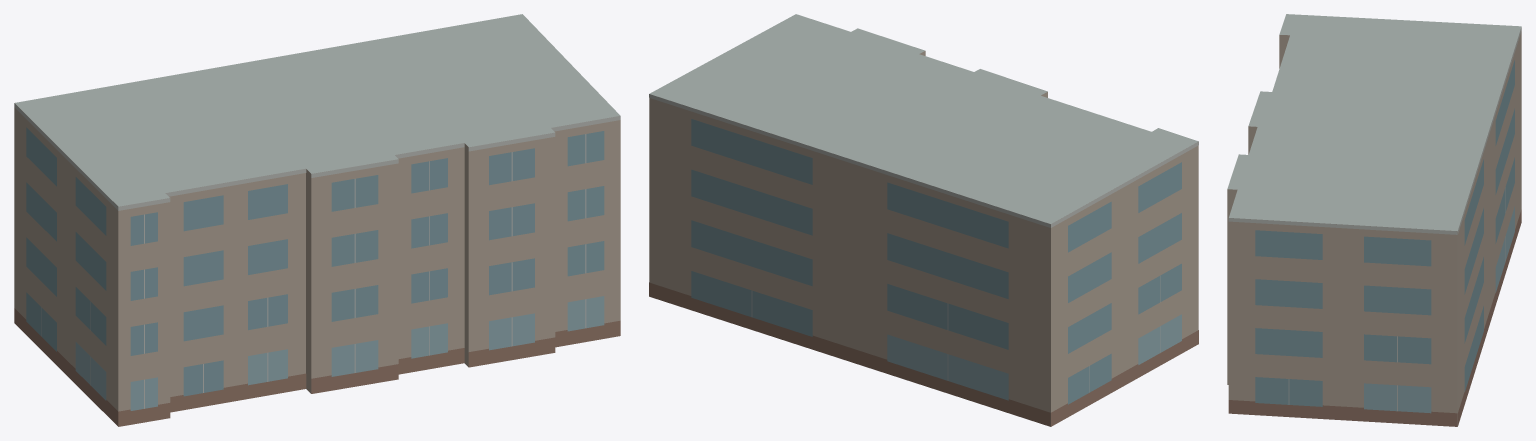
File: survey-upis-32897937.glb
3 renders of one model, left to right at view 1: azimuth 30°, elevation 25°; view 2: azimuth 150°, elevation 25°; view 3: azimuth 270°, elevation 25°, orthographic. The views are drawn at different scales.
Parts seen in each view (by area): view 1: survey-upis-32897937.tmp; view 2: survey-upis-32897937.tmp; view 3: survey-upis-32897937.tmp.
Boxes of the visible parts, x1,y1,x2,y2 form: survey-upis-32897937.tmp: (14,14,620,426); survey-upis-32897937.tmp: (649,14,1198,426); survey-upis-32897937.tmp: (1227,14,1521,426).
Bounding box in the file's own units: 30.47 × 12.8 × 17.46.
